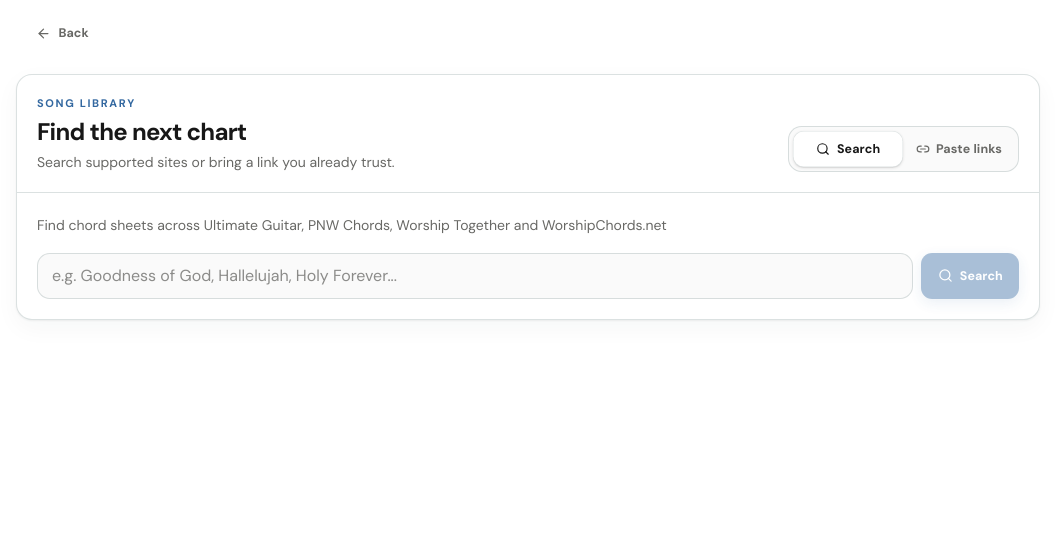
Scenario: SearchPage import wiring › does not let a superseded search replace newer results
Step 1. Type "first" into the field with placeholder "e.g. Goodness of God, Hallelujah, Holy Forever..." → (475, 276), box [37,253,913,299]
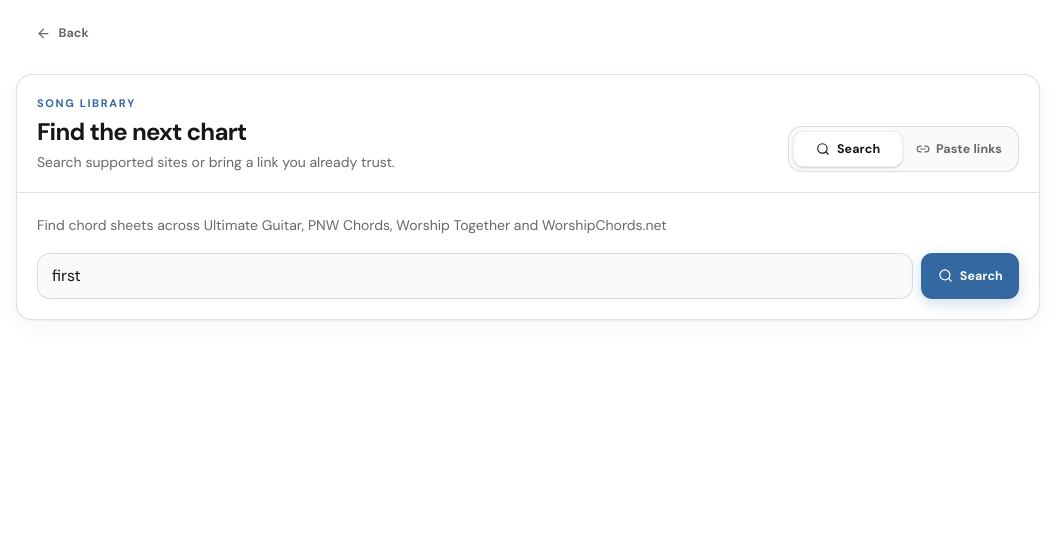
Step 2. Submit the form with placeholder "Goodness of God, Hallelujah, Holy Forever", box [37,253,1019,299]
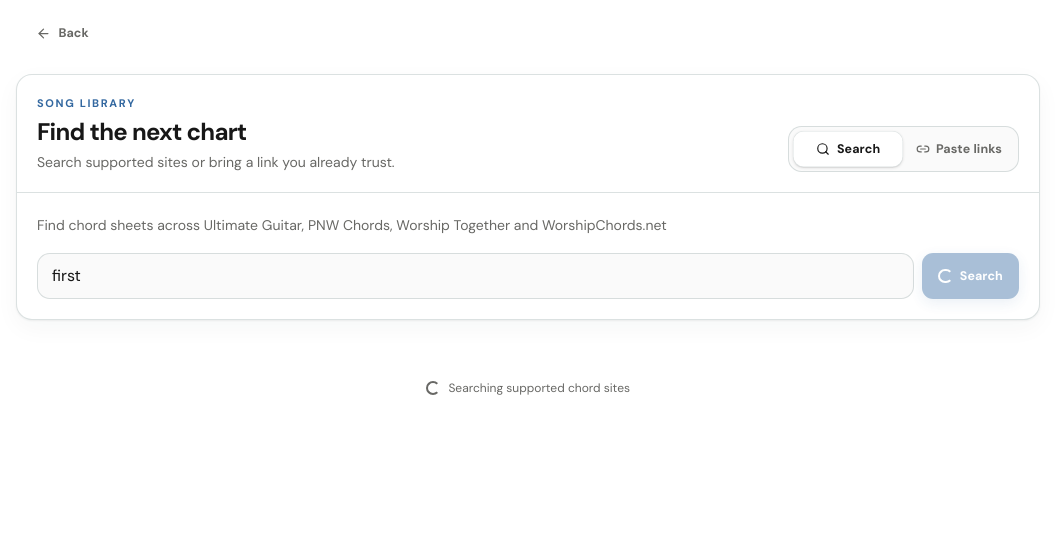
Step 3. Replace the text in the field with placeholder "e.g. Goodness of God, Hallelujah, Holy Forever..." with "second" → (476, 276), box [37,253,914,299]
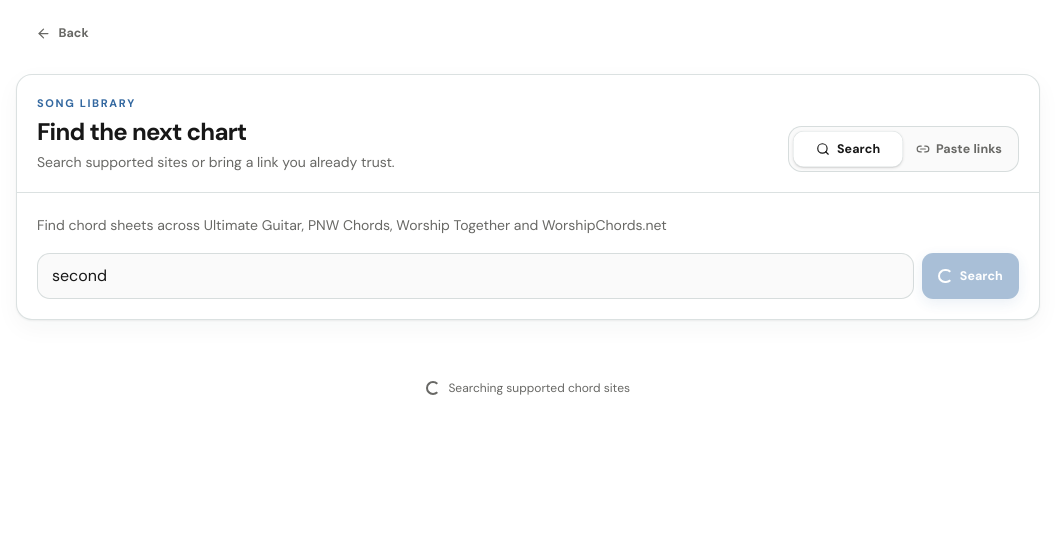
Step 4. Submit the form with placeholder "Goodness of God, Hallelujah, Holy Forever", box [37,253,1019,299]
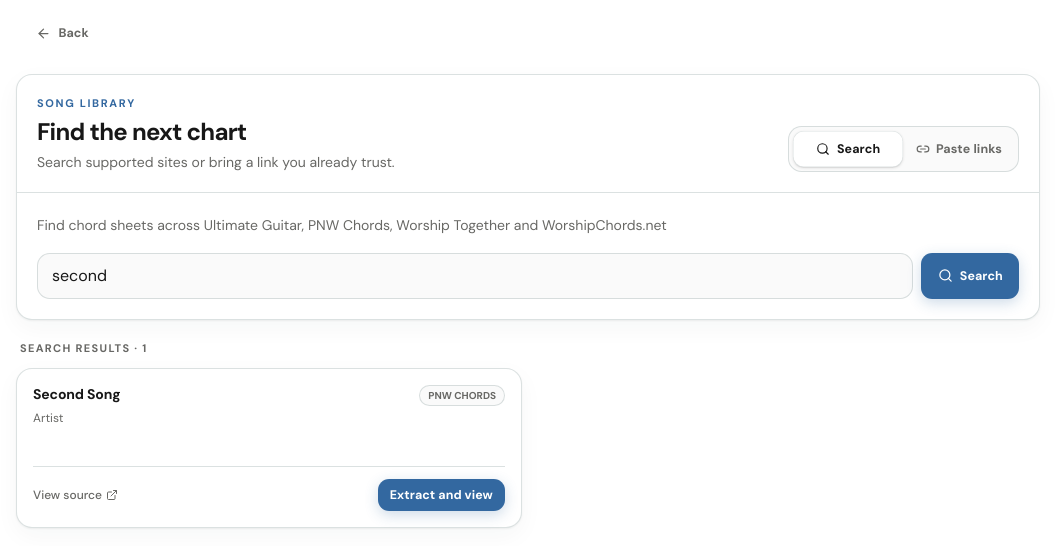
Expected: the heading "Second Song" is shown, [33,385,120,405]
